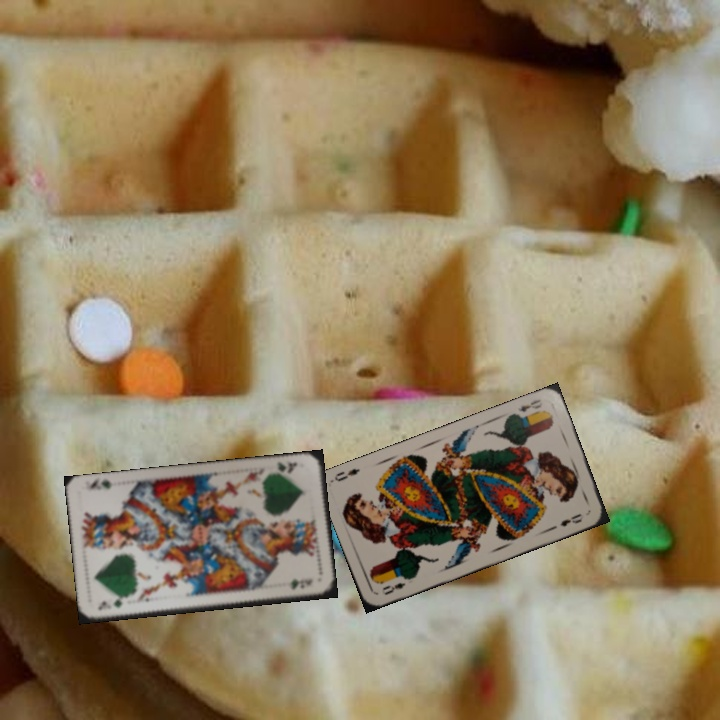EO: (378, 573, 412, 597), (514, 395, 545, 415)
GK: (94, 596, 125, 612), (273, 457, 299, 476)
